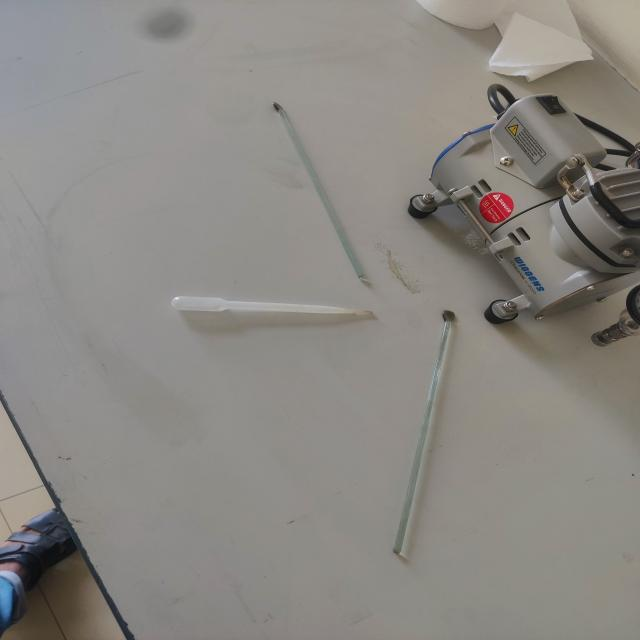Glass_Rod: (362, 300, 485, 578), (248, 82, 382, 293)
Pipette: (150, 268, 381, 344)
